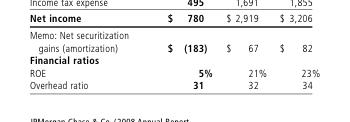table: (28, 29, 319, 90)
table column: (28, 29, 147, 90), (147, 29, 218, 90), (218, 29, 272, 90), (272, 29, 319, 90)
table column header: (28, 29, 319, 53)
table projected row header: (28, 53, 319, 66)
table row: (28, 29, 319, 53), (28, 53, 319, 66), (28, 66, 319, 78), (28, 78, 319, 90)
